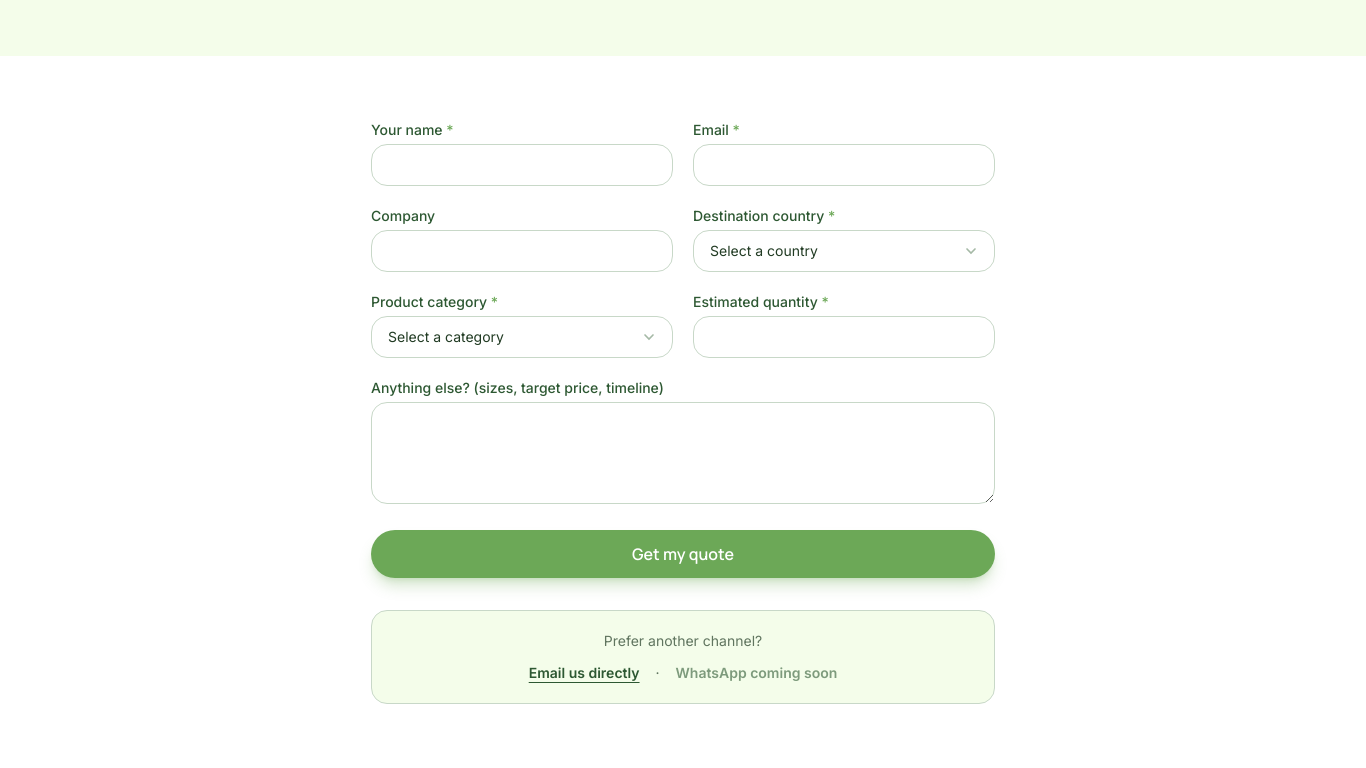
Test: GetQuotePage › shows validation errors when submitted empty
(page scrolled)
Click the button "Get my quote" at (683, 554), box [371,530,995,578]
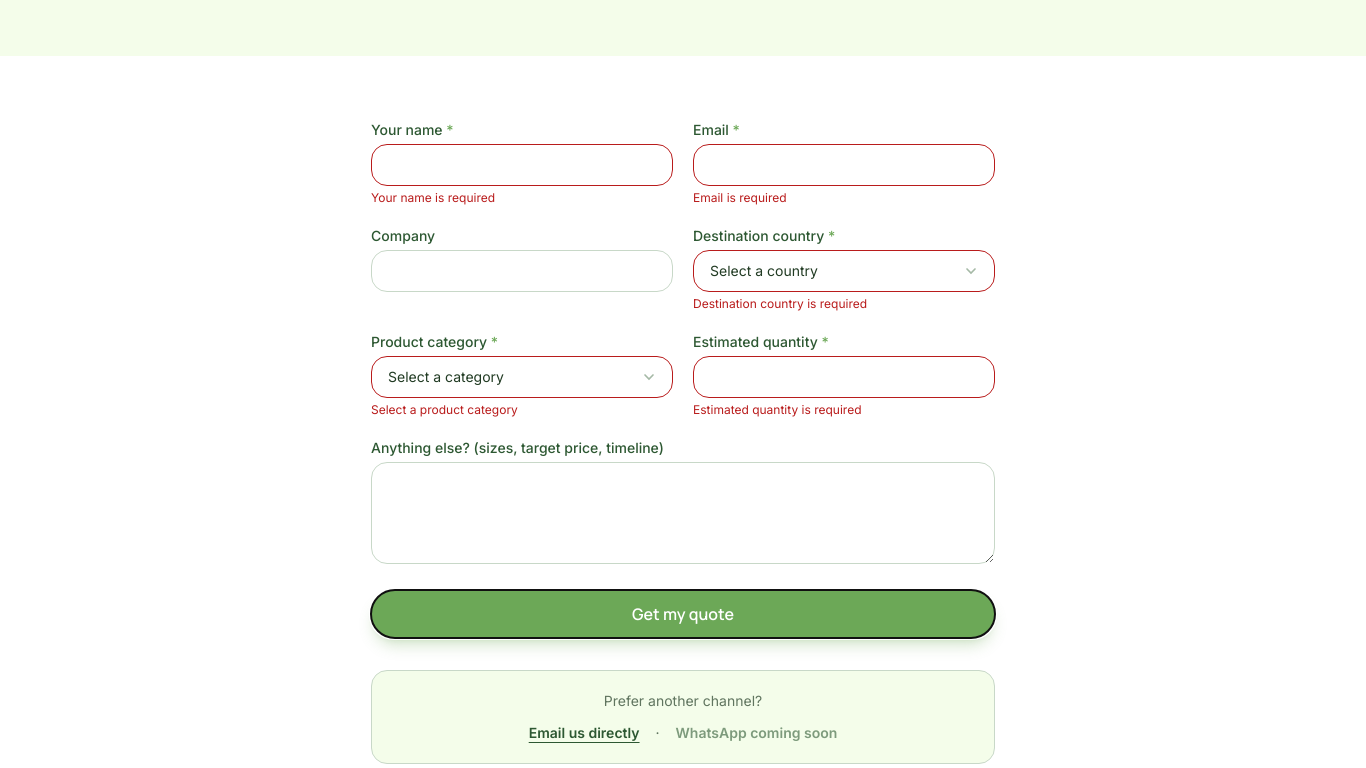
Expected: the text "Your name is required" is shown, [371,190,495,205]
Expected: the text "Email is required" is shown, [693,190,787,205]
Expected: the text "Destination country is required" is shown, [693,296,867,311]
